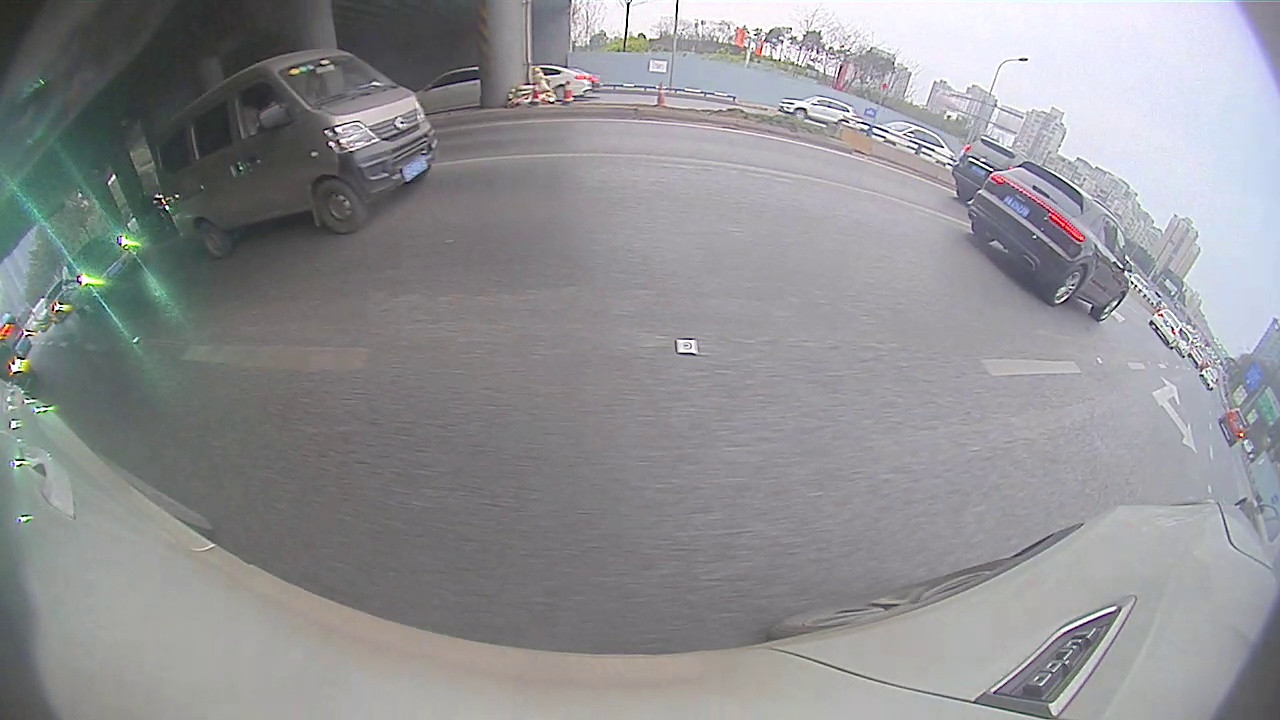car: (152, 47, 440, 258), (965, 160, 1131, 322), (949, 133, 1019, 201), (1149, 306, 1181, 352)
front: (313, 179, 367, 235), (1100, 292, 1126, 322)
rear: (1050, 265, 1088, 310), (197, 218, 235, 259)
